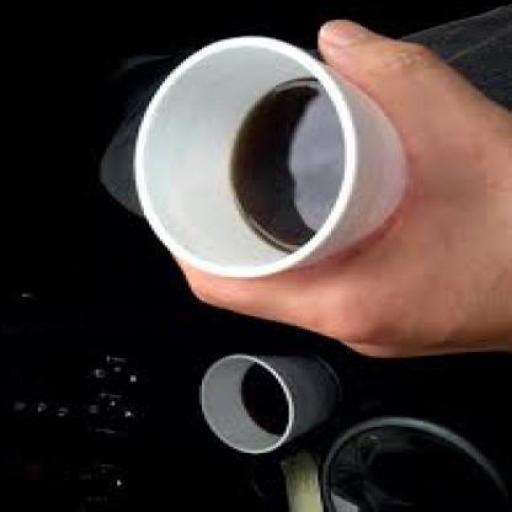paper: (129, 38, 404, 281), (195, 358, 338, 457)
